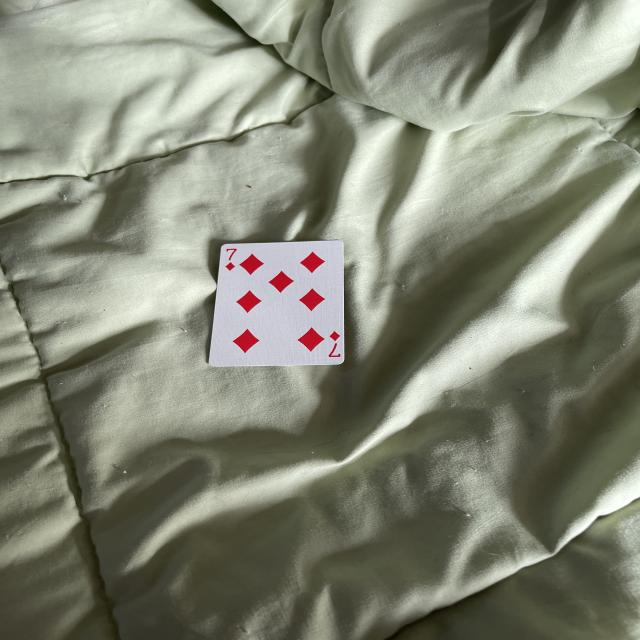7 of diamonds: (209, 241, 343, 366)
